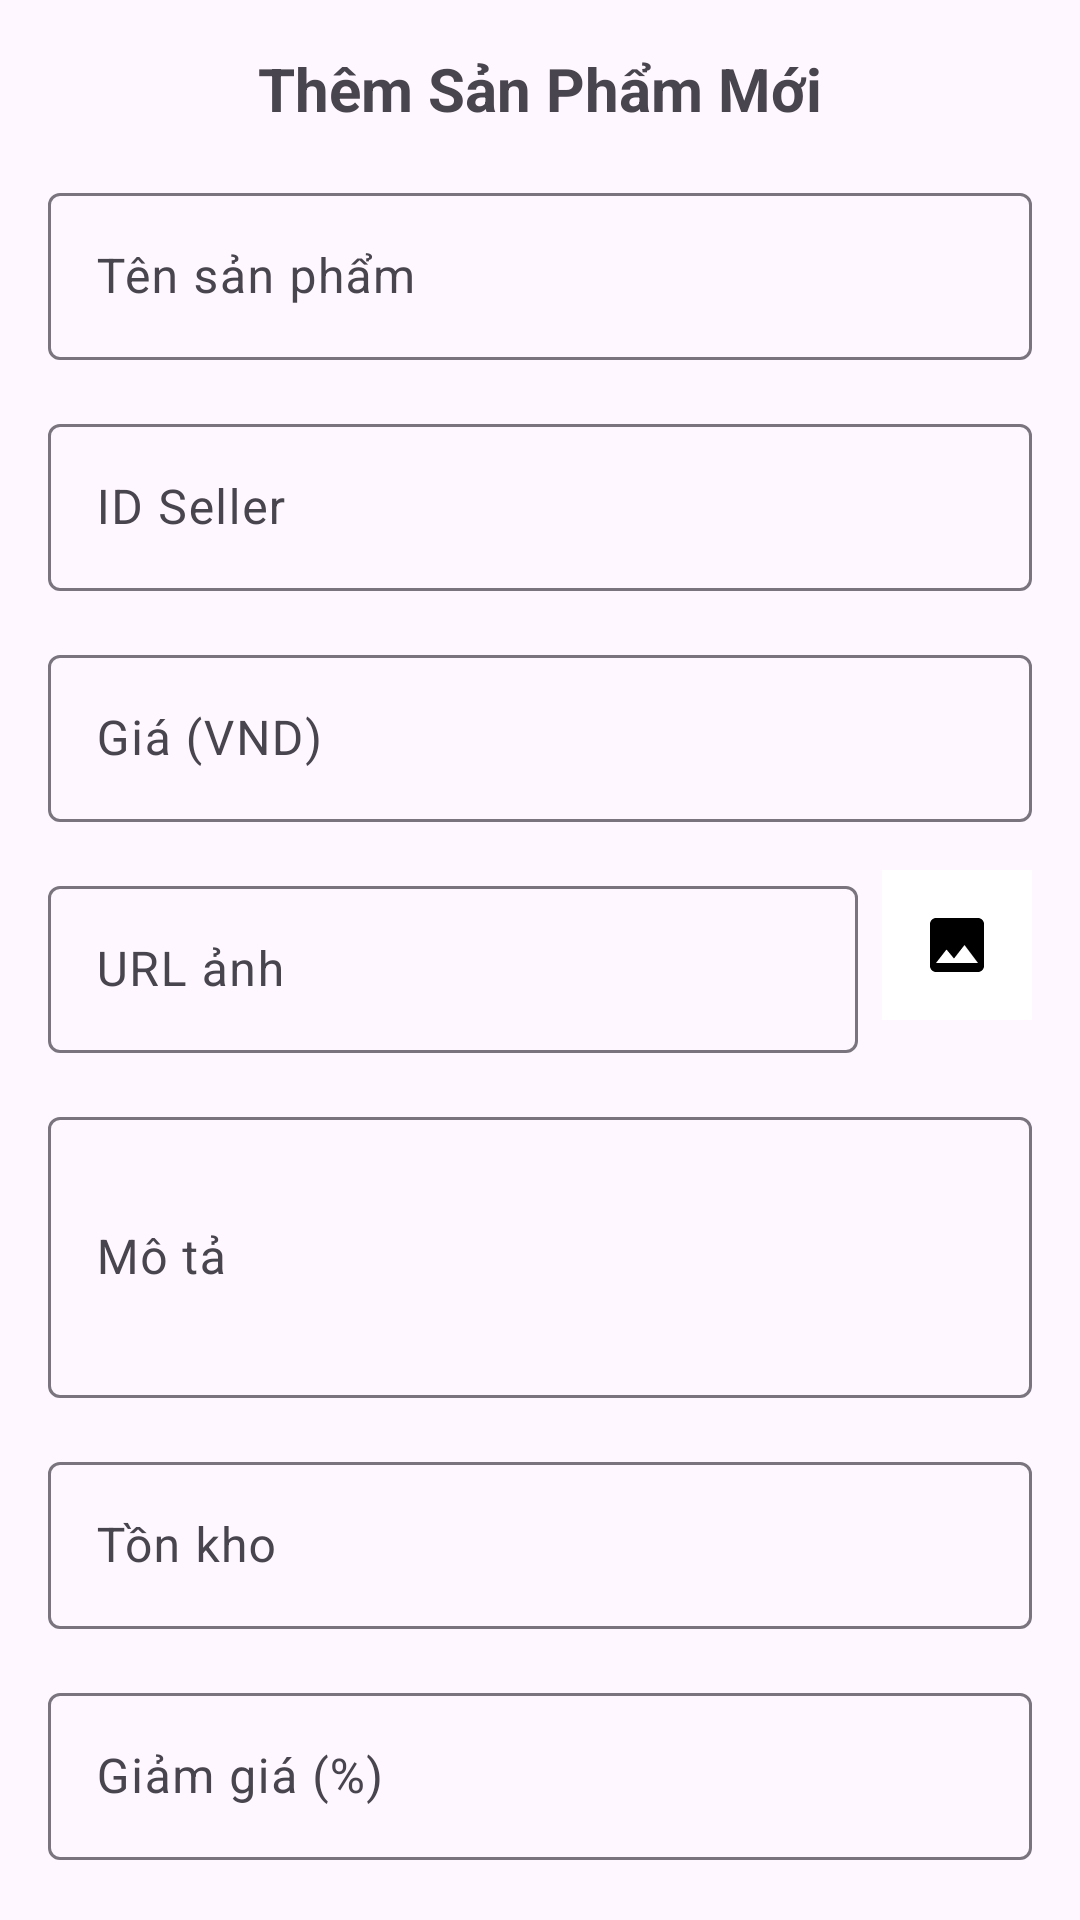

Named icons in this screenshot (1080w x 1920h) and their bounding boxes, (x1, y1, x2, y2):
Chọn ảnh: (930, 918, 984, 972)
